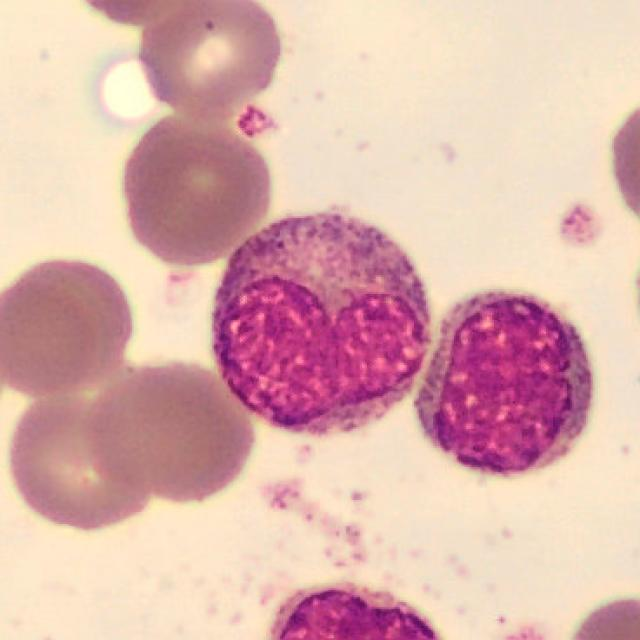Metamielocito: (210, 211, 430, 434)
Mielocito: (414, 296, 590, 474)
